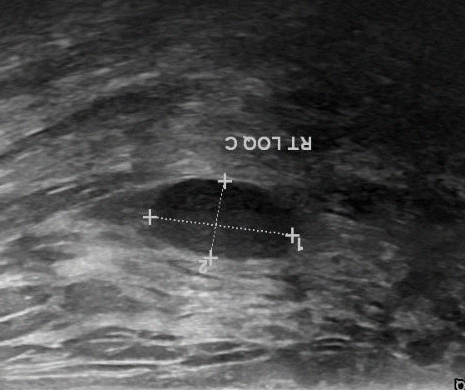Benign: (152, 177, 288, 260)
